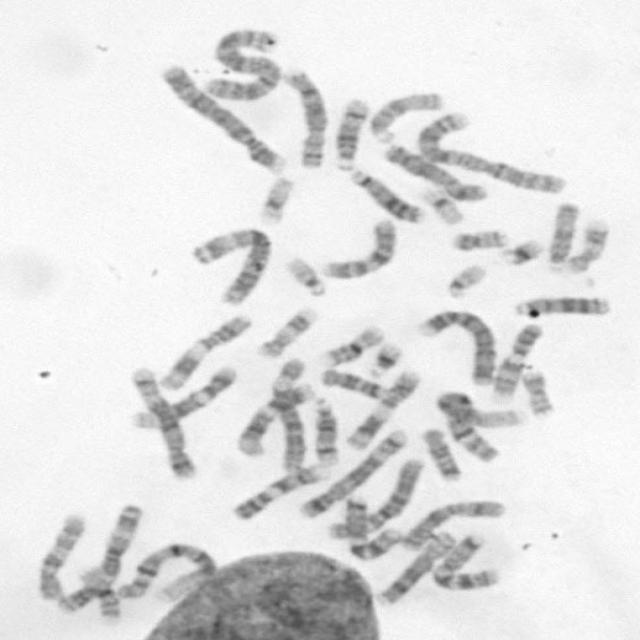A1: (432, 389, 526, 464), (112, 538, 220, 602)
A2: (412, 109, 570, 196), (203, 25, 283, 102)
A3: (53, 501, 145, 614), (187, 224, 274, 306)
B4: (156, 62, 288, 176), (413, 305, 498, 387)
B5: (293, 426, 409, 520), (125, 363, 199, 481)
C10: (316, 216, 398, 281), (32, 510, 88, 603)
C11: (154, 310, 252, 392), (341, 367, 421, 453)
C12: (126, 362, 238, 431), (232, 379, 316, 458)
C6: (322, 454, 427, 542), (262, 355, 310, 475)
C7: (425, 529, 503, 592), (338, 494, 402, 562)
C8: (372, 528, 457, 608), (279, 67, 330, 170)
C9: (229, 462, 326, 522), (486, 320, 544, 399)
D13: (346, 167, 425, 226), (510, 292, 610, 319)
D14: (330, 96, 371, 171), (308, 394, 341, 467)
D15: (364, 89, 445, 143), (542, 198, 582, 266)
E16: (318, 321, 387, 368), (75, 566, 124, 624)
E17: (252, 305, 320, 360), (562, 218, 612, 276)
E18: (416, 424, 464, 482), (316, 363, 387, 400)
F19: (254, 172, 296, 225), (418, 184, 466, 226)
F20: (518, 368, 557, 418), (447, 226, 509, 252)
G21: (364, 339, 404, 378), (496, 235, 546, 266)
G22: (283, 253, 329, 298), (441, 260, 488, 299)
X: (381, 140, 488, 203), (397, 496, 508, 553)
